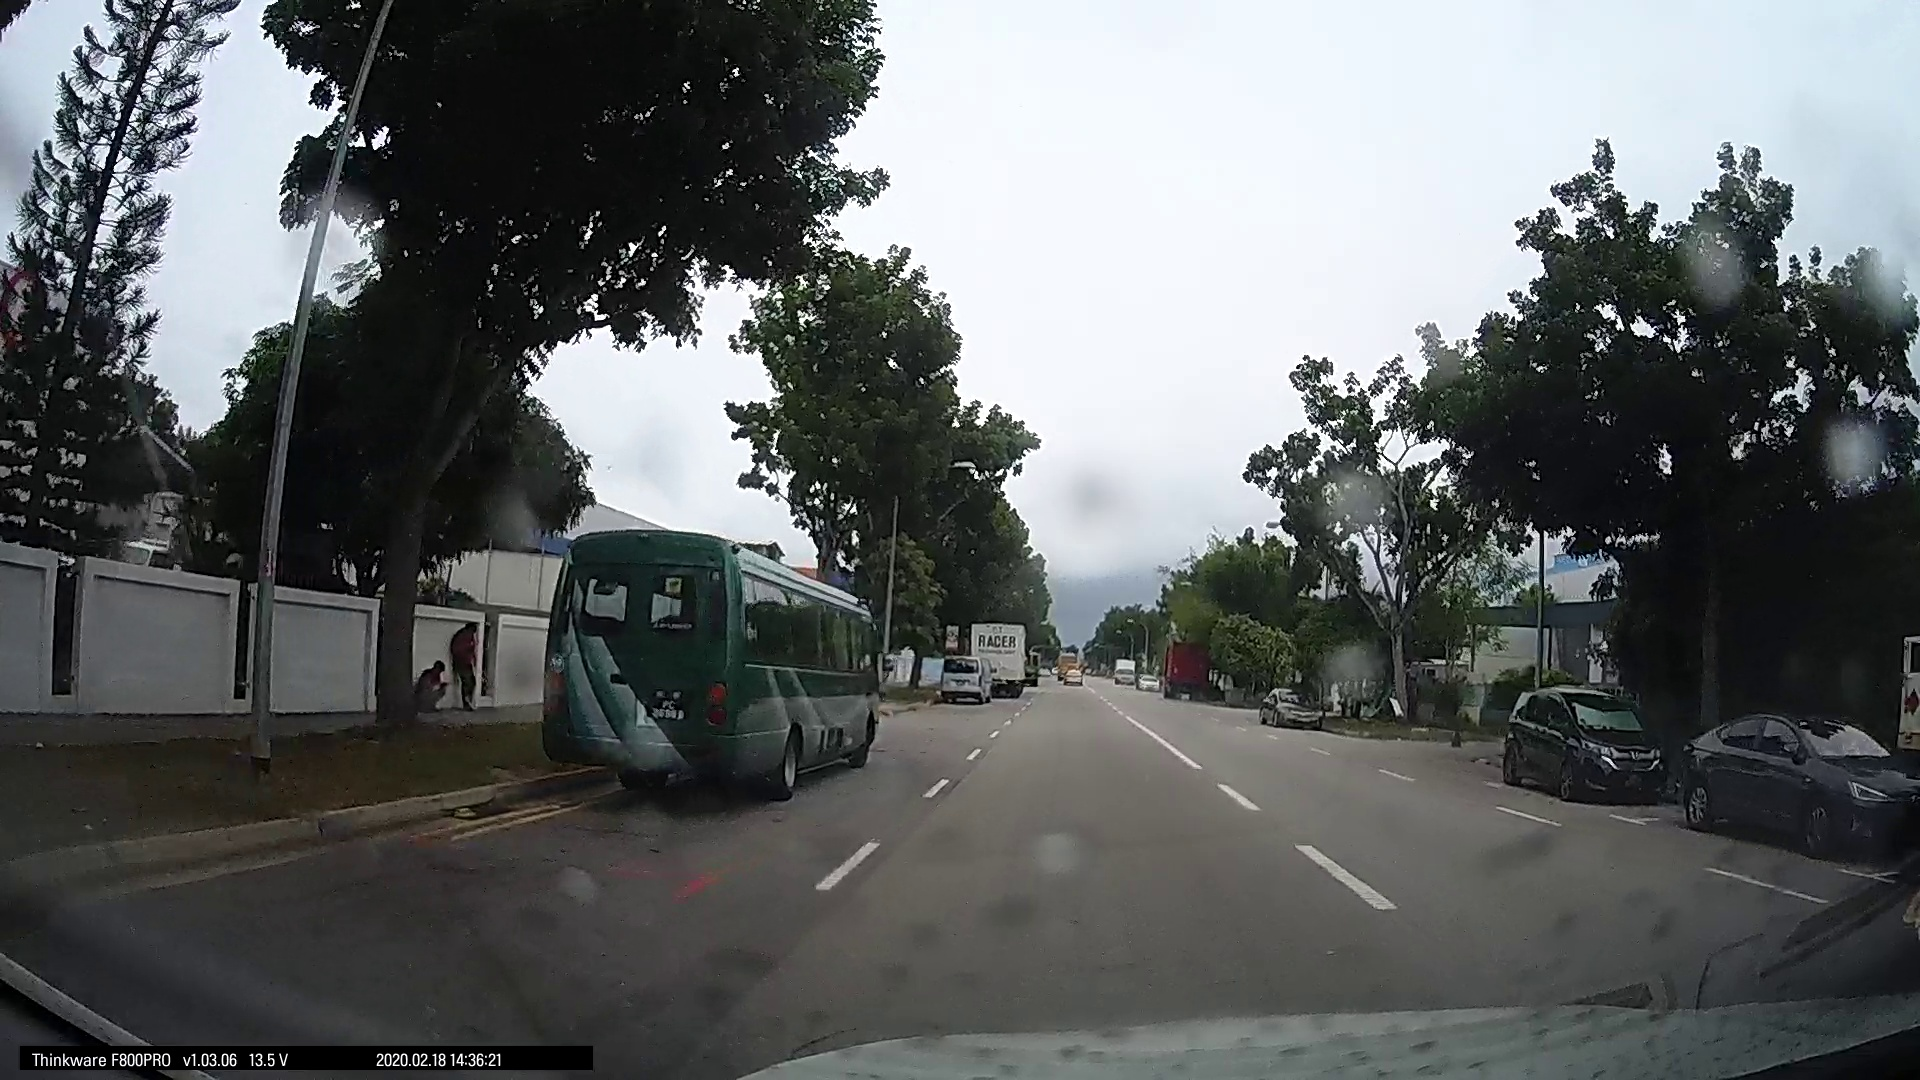Heavy Vehicle: (539, 527, 878, 800), (956, 618, 1033, 698)
Light Vehicle: (1669, 702, 1915, 855), (1491, 680, 1665, 804), (932, 650, 996, 703), (1259, 686, 1323, 731)
